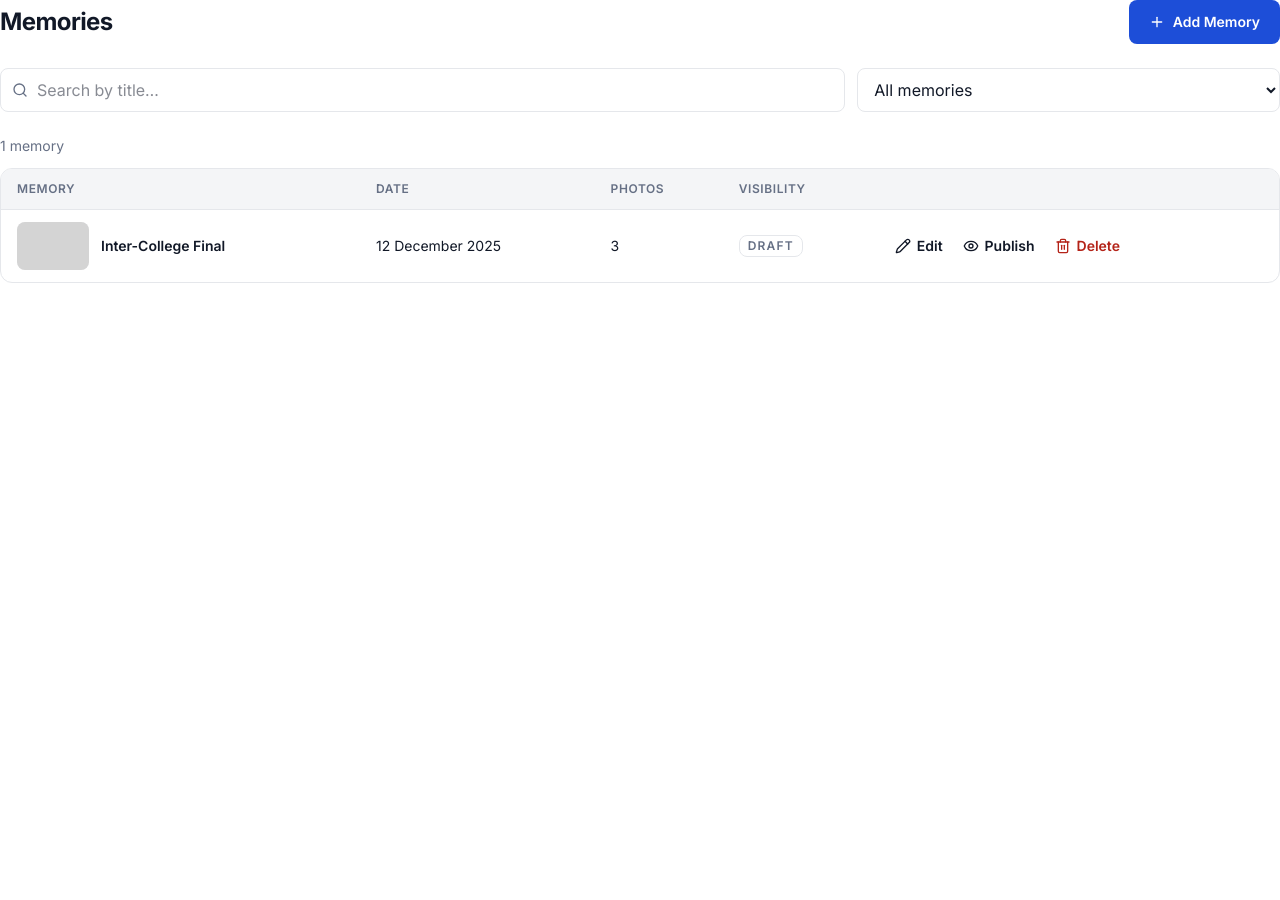
Scenario: AdminMemories › confirms permanent deletion and suggests unpublishing instead
Click the button with aria-label "Delete Inter-College Final": [1087, 246] box [1046,224,1128,268]
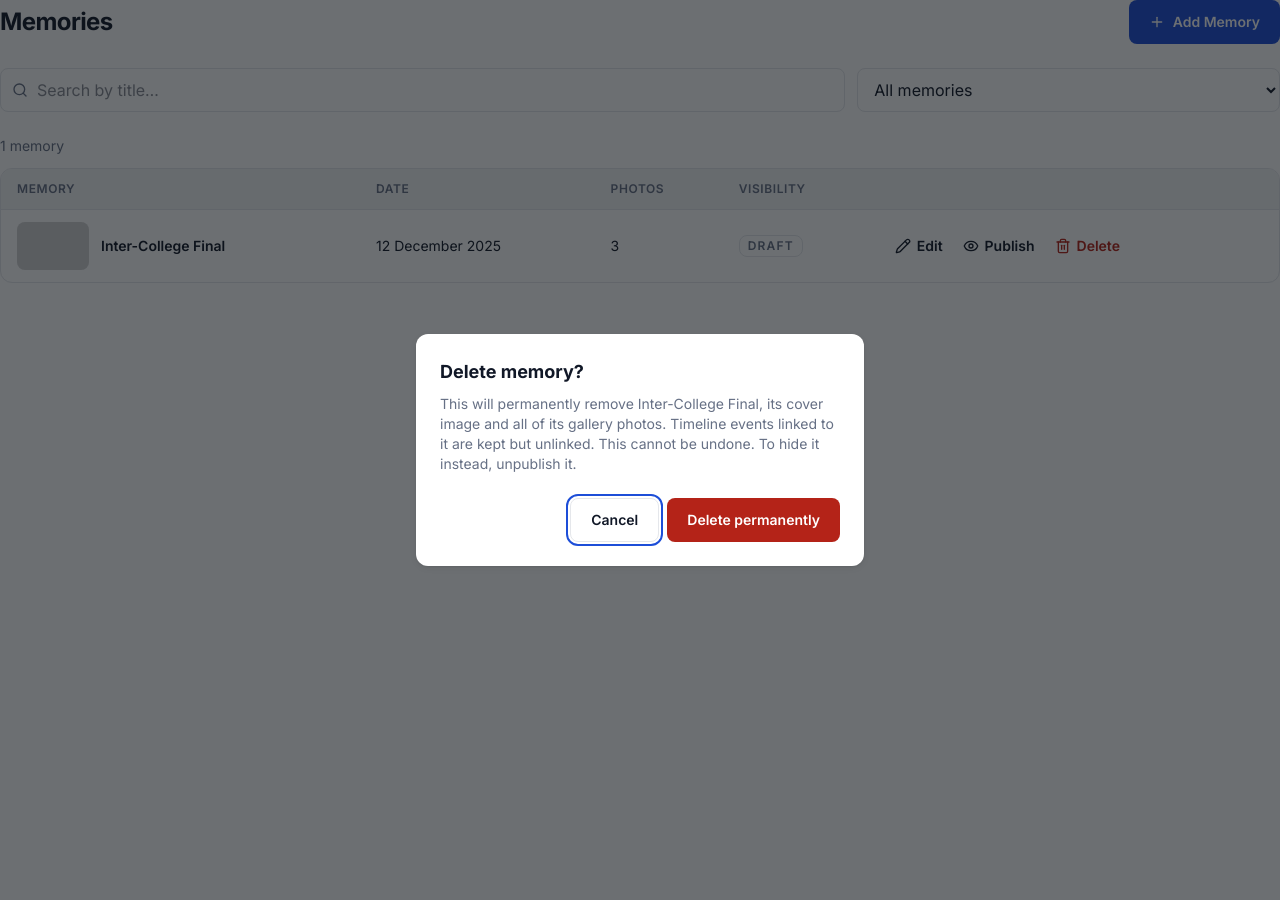
Expected: the dialog "Delete memory?" shows "all of its gallery photos", [440,395,834,472]
Expected: the dialog "Delete memory?" shows "To hide it instead, unpublish it.", [440,395,834,472]
Click the button "Delete permanently": [754, 520] box [667,498,840,542]
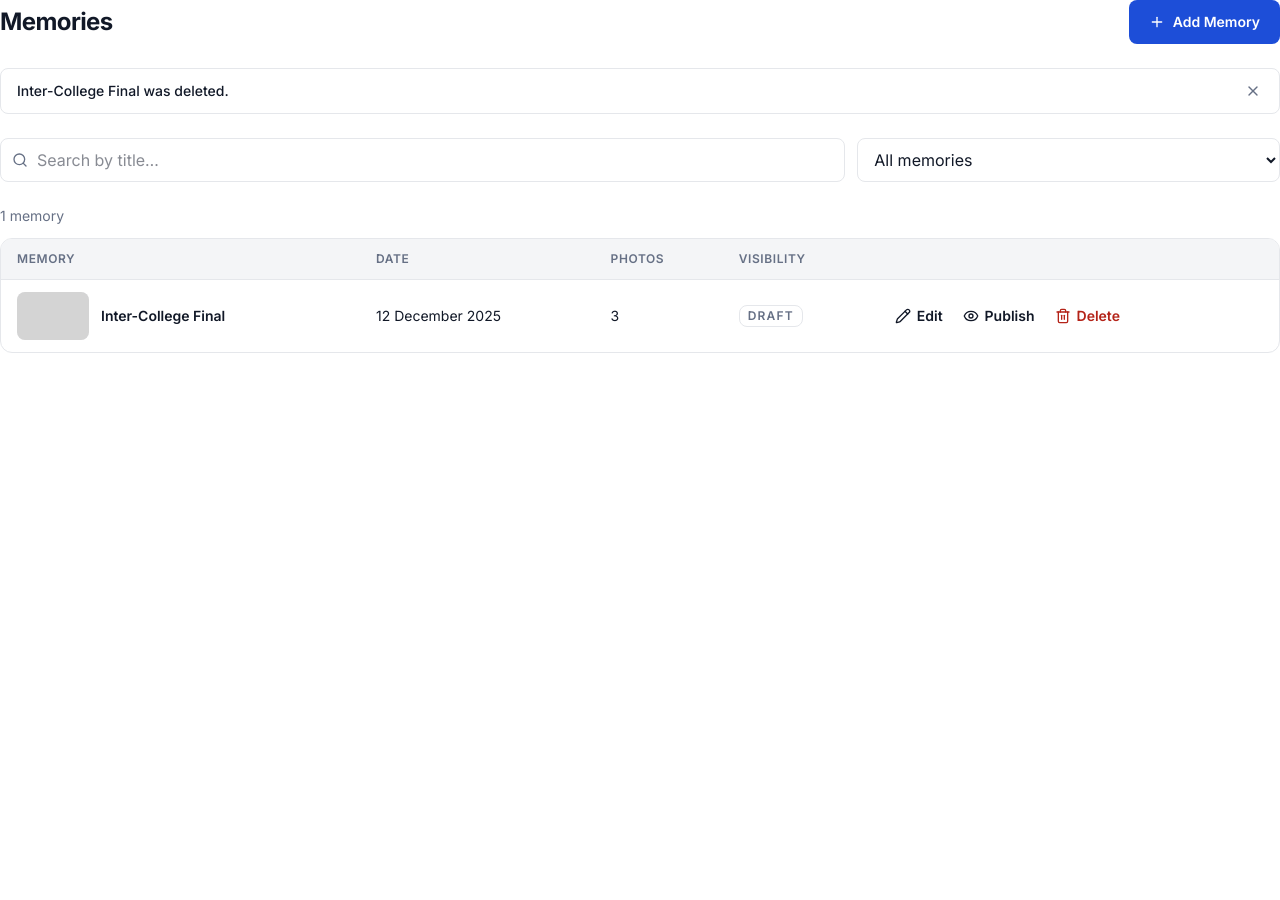
Expected: the text "Inter-College Final was deleted." is shown, [17,81,229,101]
